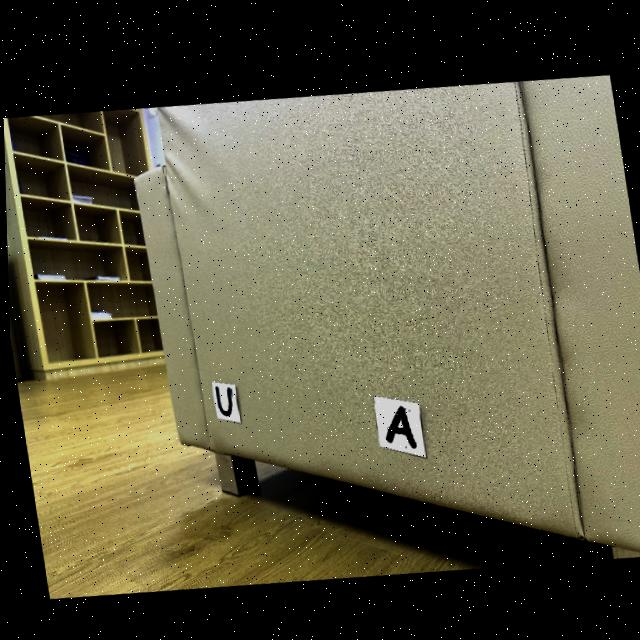A: (383, 402, 413, 443)
U: (213, 384, 230, 413)
